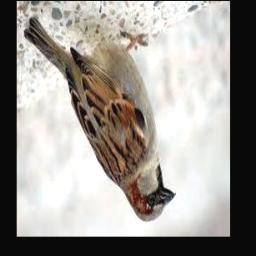Sparrow: (24, 17, 176, 221)
